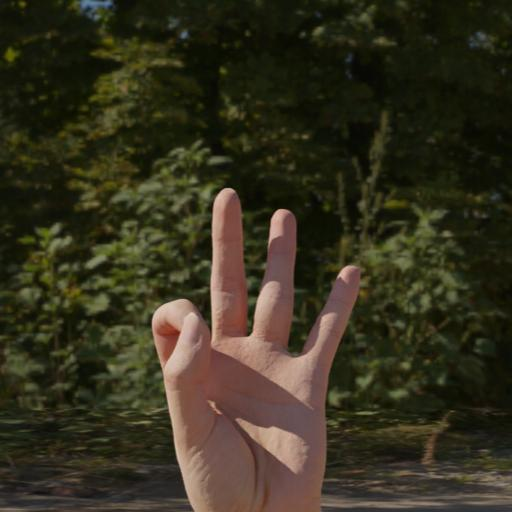F: (144, 183, 362, 512)
